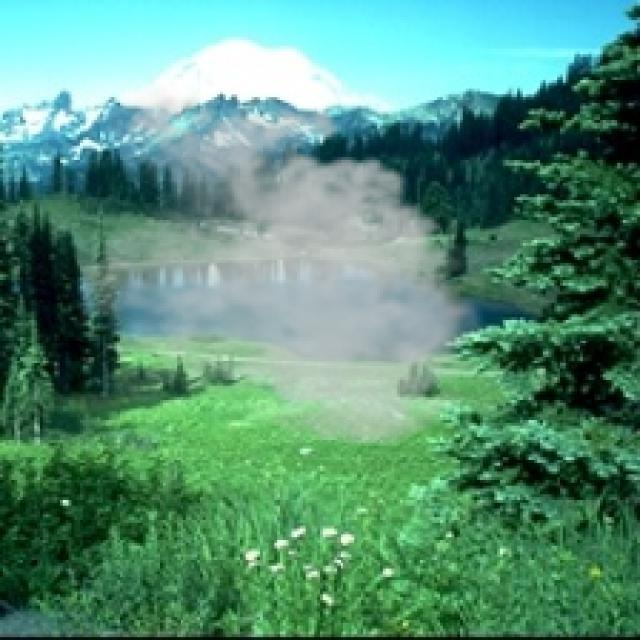Smoke: (77, 82, 497, 454)
